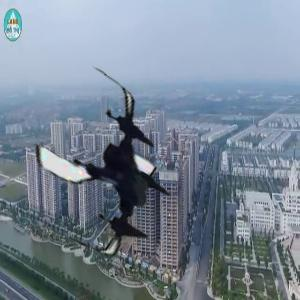drone: (15, 78, 191, 254)
